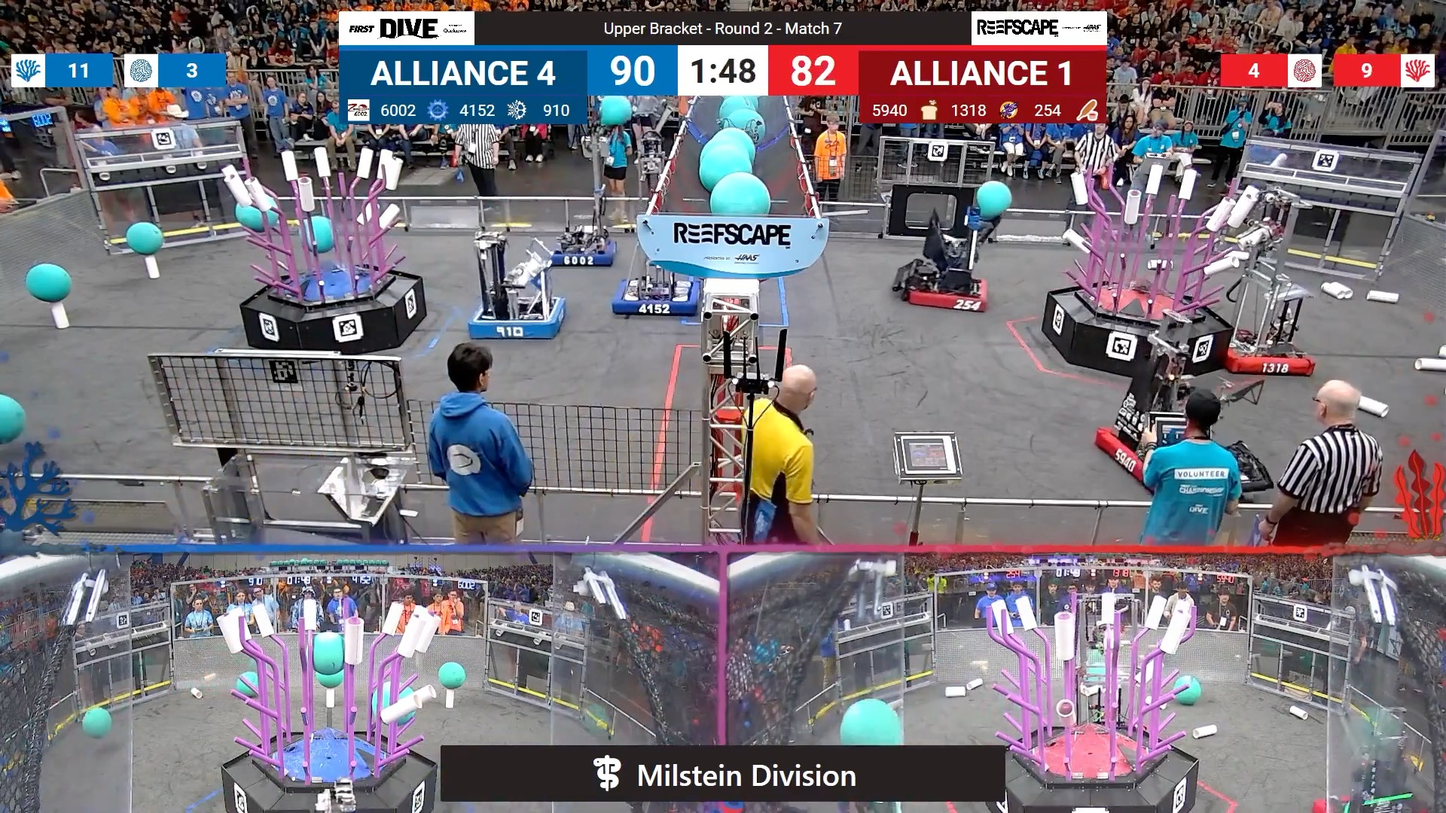bumpers: (1092, 418, 1226, 489), (1212, 329, 1324, 382), (895, 266, 1002, 321), (466, 292, 573, 346), (608, 276, 704, 323), (539, 236, 620, 272)
